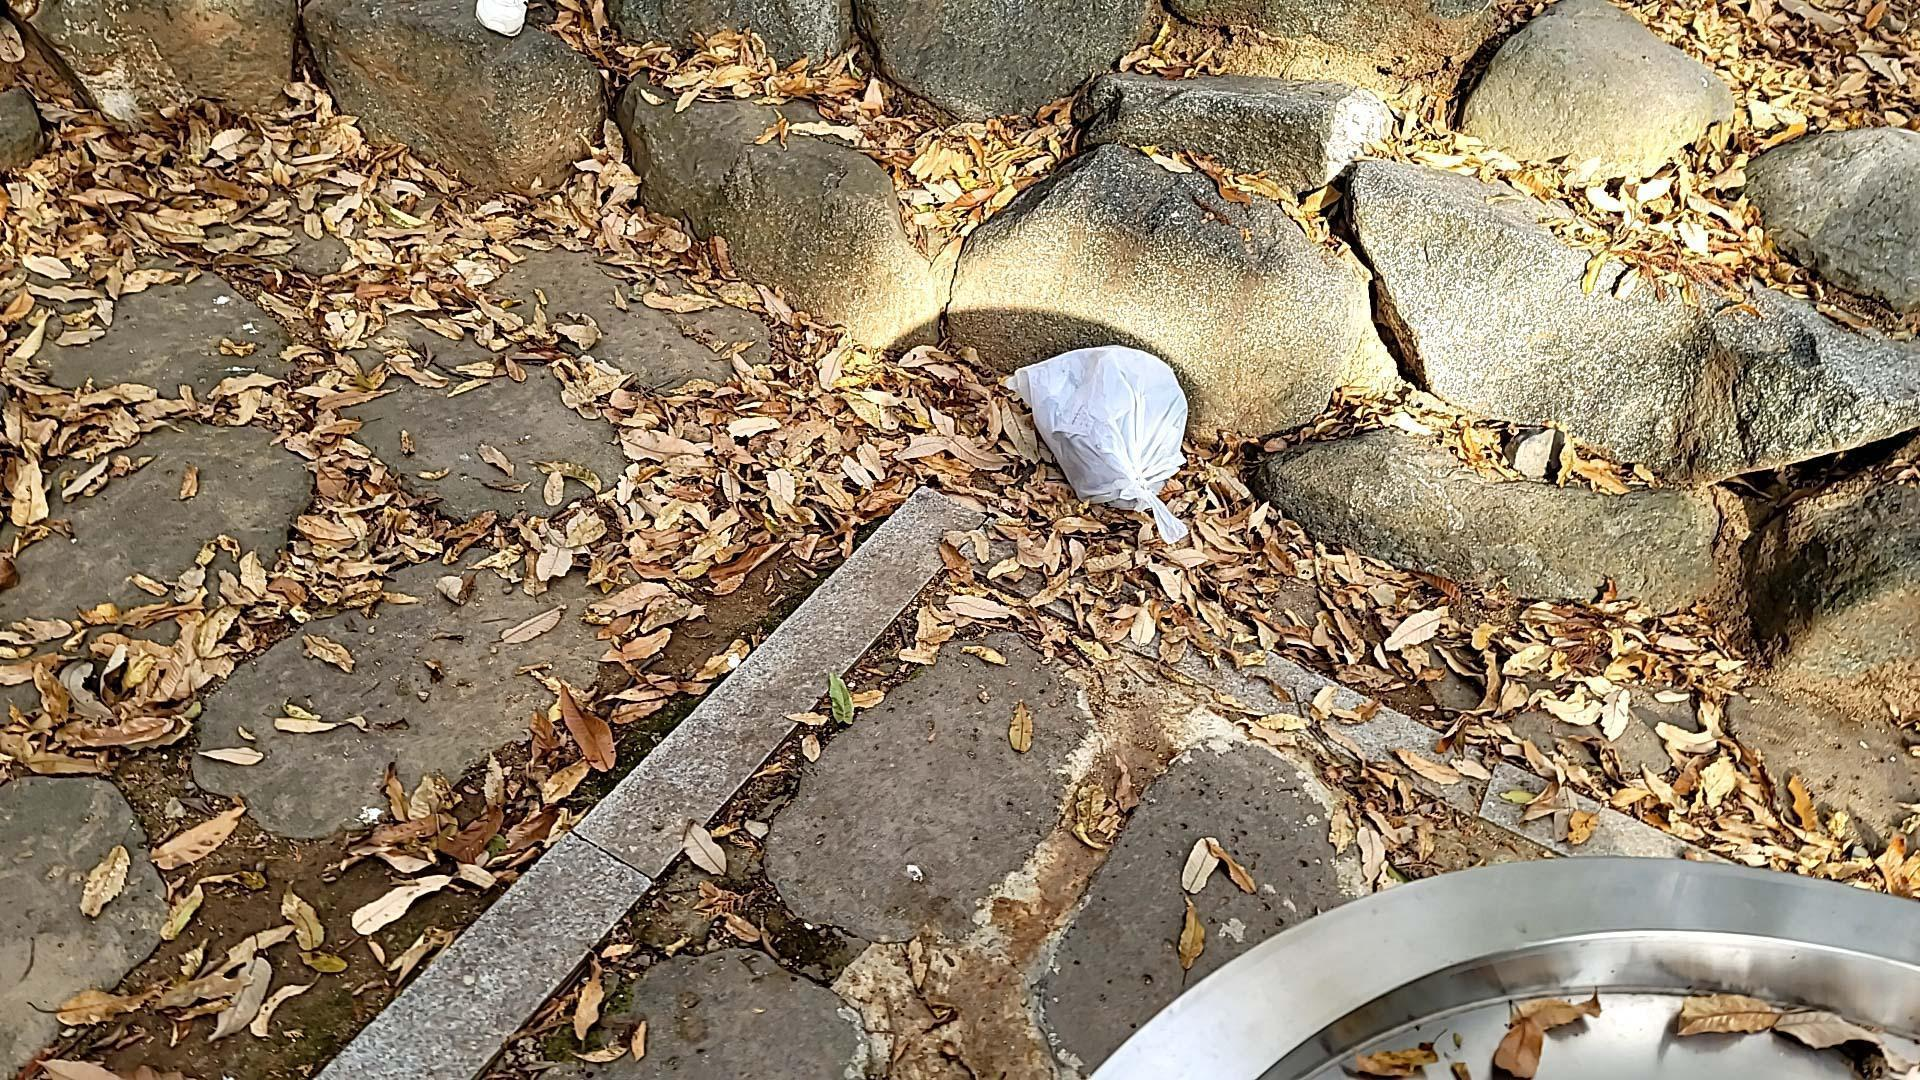white_bag: (985, 335, 1203, 554)
